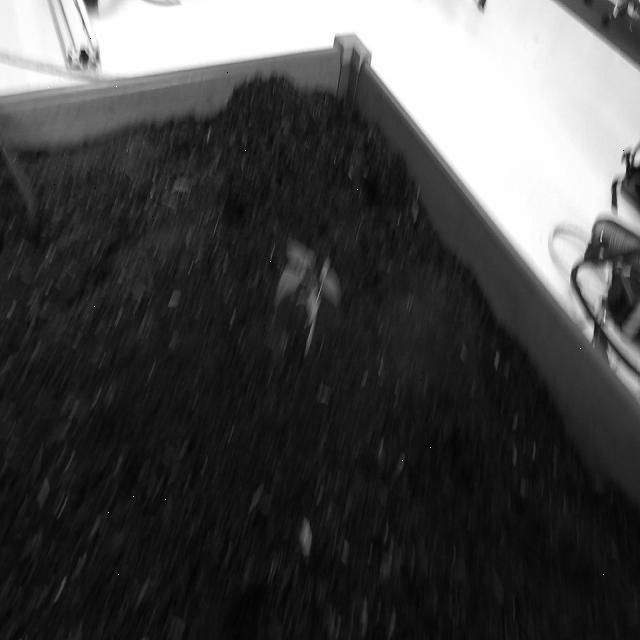Healthy: (272, 233, 344, 364)
